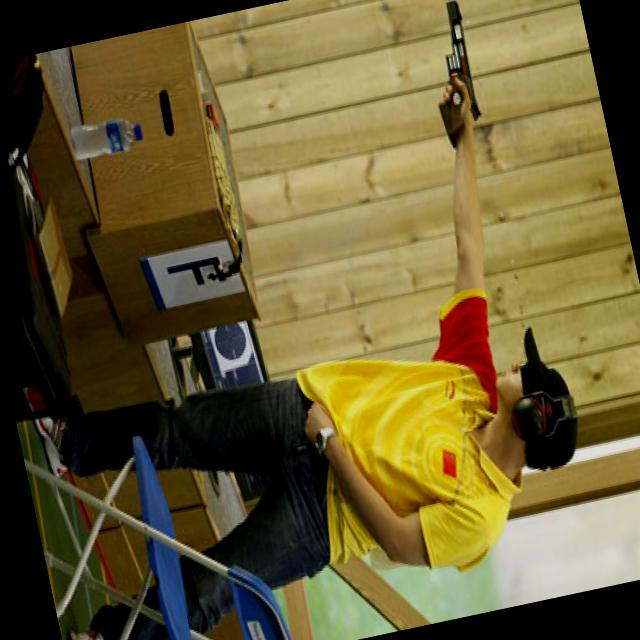handgun: (418, 0, 490, 147)
